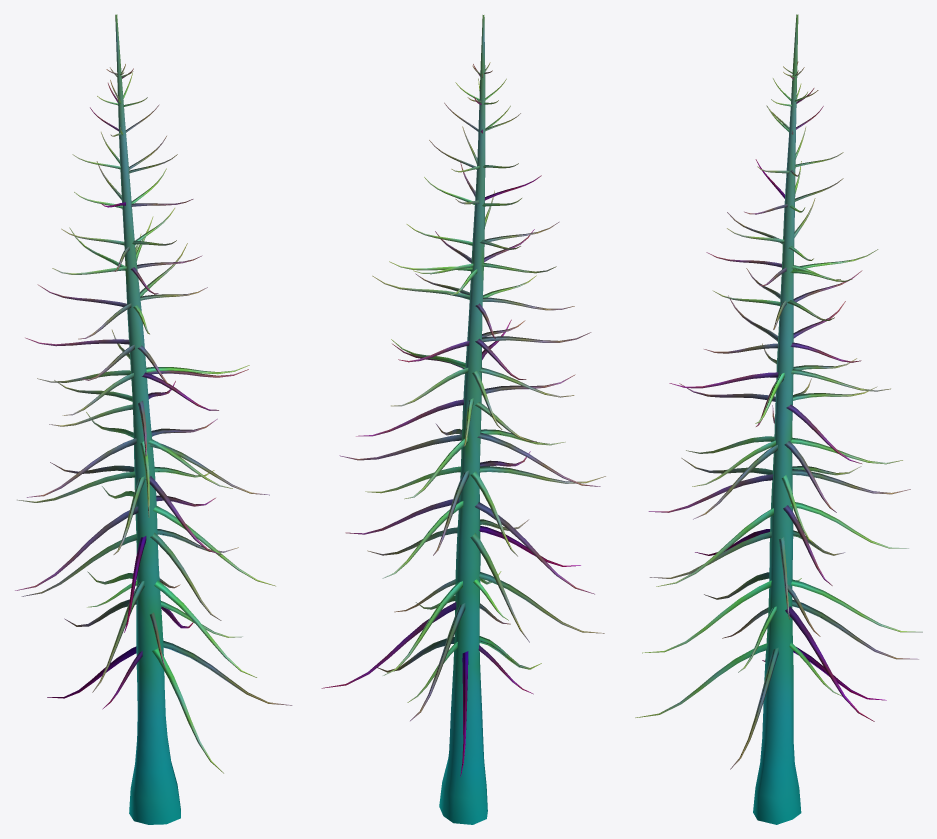
The model's file is spruce-grove-a.glb.
3 views of the same model, side by side, from view 1: azimuth 30°, elevation 25°; view 2: azimuth 150°, elevation 25°; view 3: azimuth 270°, elevation 25° (orthographic). The views are drawn at different scales.
Parts seen in each view (by area): view 1: bark; view 2: bark; view 3: bark.
Boxes of the visible parts, box(x1,y1,x2,y2) form: bark: box(15, 14, 292, 824); bark: box(321, 15, 605, 824); bark: box(635, 14, 922, 824).
Bounding box in the file's own units: 5.98 × 18.44 × 6.12.
